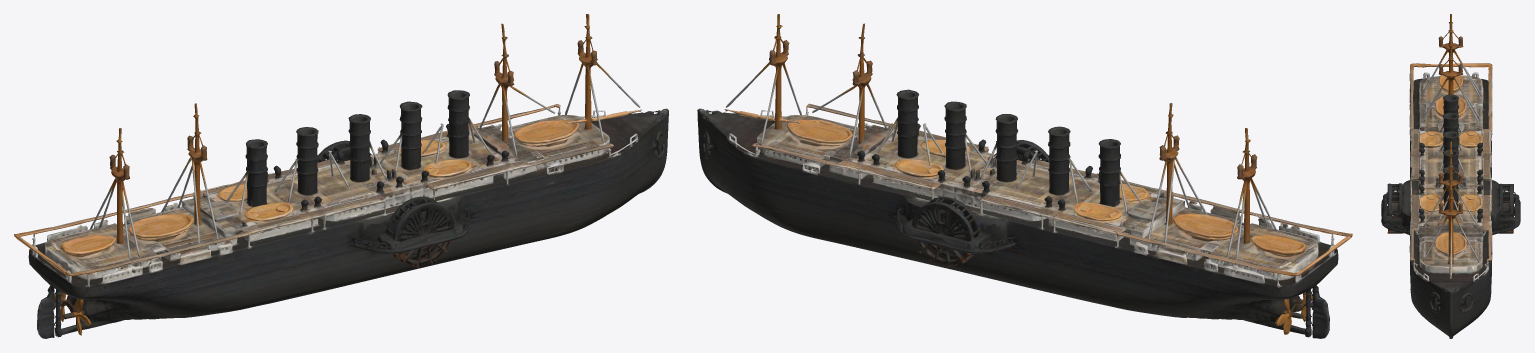
The model's file is great-eastern.glb.
3 views of the same model, side by side, from view 1: azimuth 30°, elevation 25°; view 2: azimuth 150°, elevation 25°; view 3: azimuth 270°, elevation 25° (orthographic). The views are drawn at different scales.
Parts seen in each view (by area): view 1: tripo_node_1821b2ba-2f33-42ed-b96a-e4c0a19ed397; view 2: tripo_node_1821b2ba-2f33-42ed-b96a-e4c0a19ed397; view 3: tripo_node_1821b2ba-2f33-42ed-b96a-e4c0a19ed397.
Part boxes in pixels (box(x1,y1,x2,y2)): tripo_node_1821b2ba-2f33-42ed-b96a-e4c0a19ed397: box(14, 14, 668, 338); tripo_node_1821b2ba-2f33-42ed-b96a-e4c0a19ed397: box(697, 14, 1352, 338); tripo_node_1821b2ba-2f33-42ed-b96a-e4c0a19ed397: box(1381, 14, 1520, 338).
Size of the model in its own units: 0.9785 by 0.3025 by 0.2568.
1 material, 1 textured.
